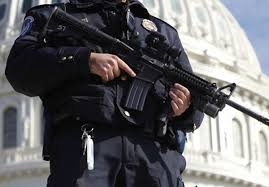Rifle: (40, 5, 269, 132)
